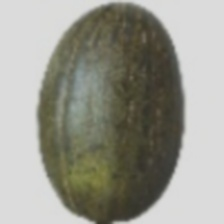honeydew: (26, 32, 206, 208)
